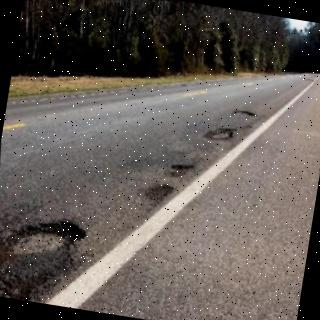pothole: (0, 221, 86, 260), (0, 263, 79, 301), (146, 185, 174, 202), (203, 128, 236, 140), (169, 165, 195, 177), (233, 110, 258, 117)
